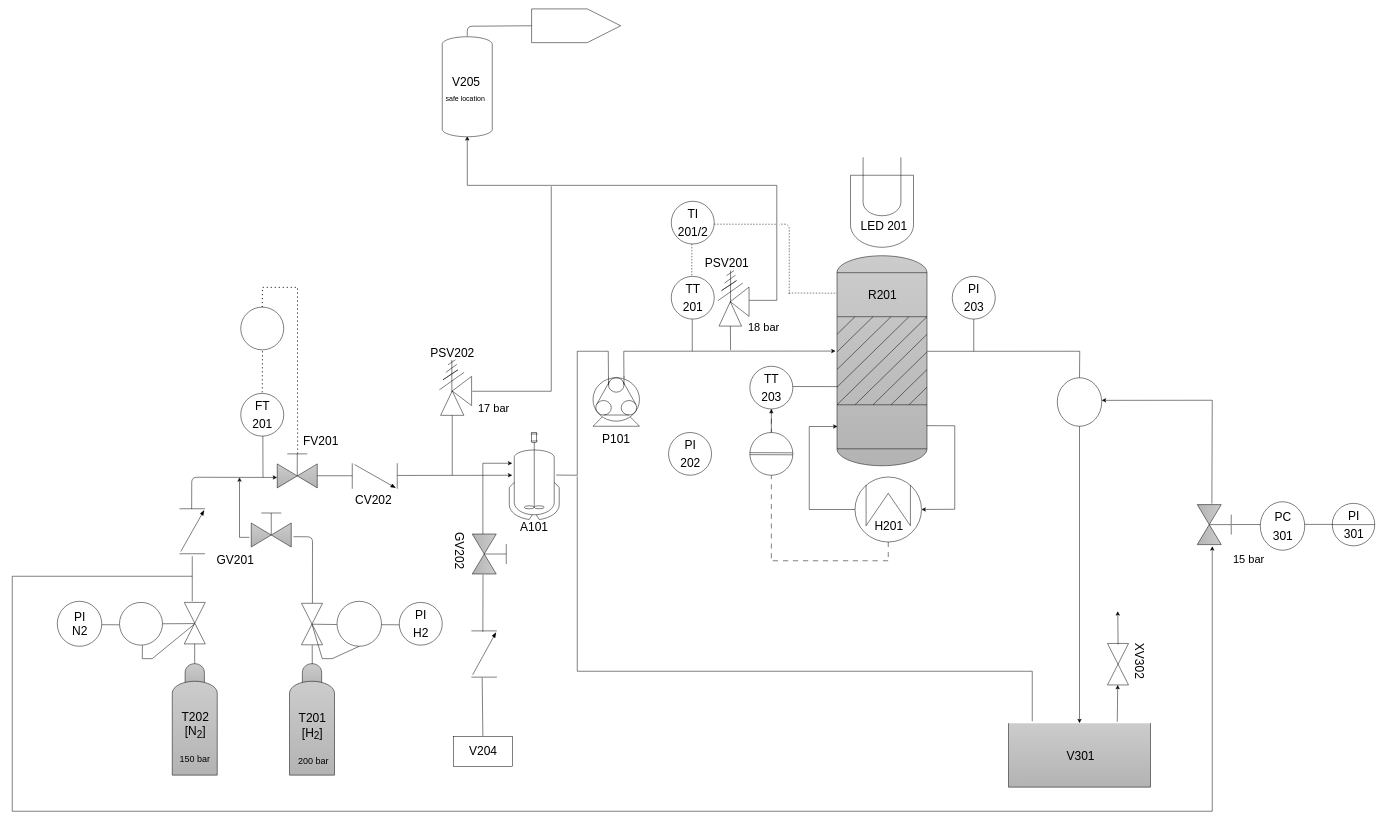
Some shapes in this 1384 by 824 pixel diagram are drawn without their labels. The shapes that lost their labels are listed below. From the top down, each one's box as (x1, y1, x2, y2) in pixels, then its label:
(531, 8, 621, 43): Fume hood [atm]
(240, 307, 284, 350): FIC 201
(1057, 377, 1102, 426): BPR 101
(749, 432, 793, 475): TIC 203
(179, 508, 205, 554): CV201
(119, 602, 162, 645): PC N2
(336, 601, 382, 646): PC H2
(471, 630, 497, 677): CV203
